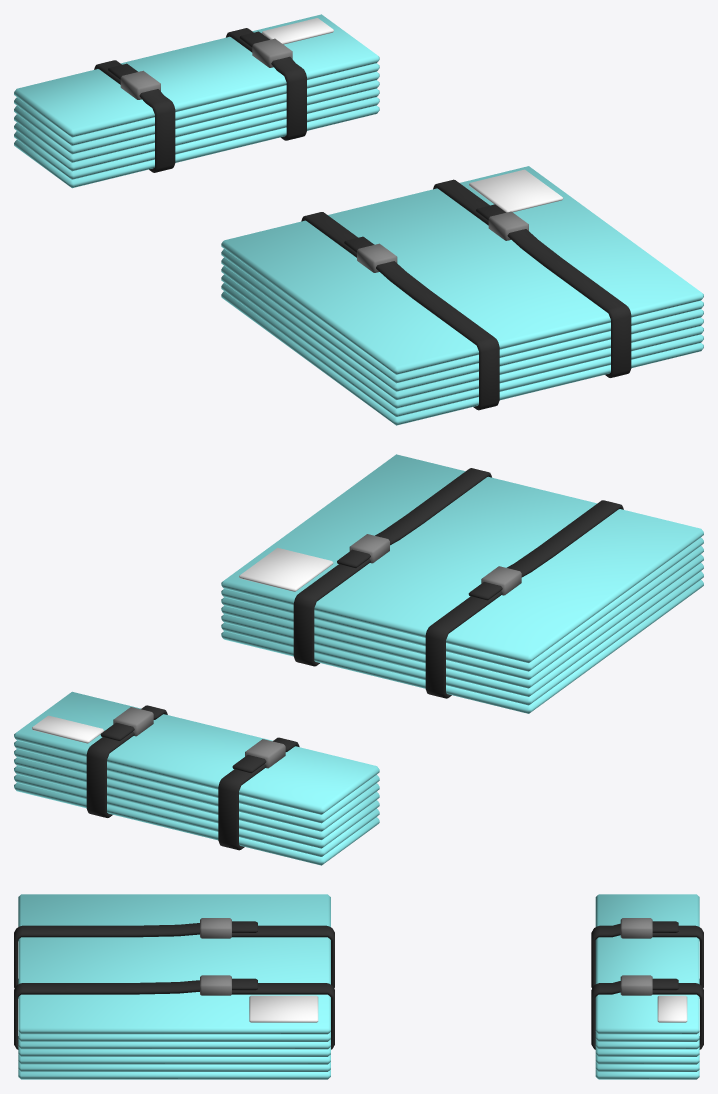
File: glass.fbx
3 views of the same model, one above another, from view 1: azimuth 30°, elevation 25°; view 2: azimuth 150°, elevation 25°; view 3: azimuth 270°, elevation 25° (orthographic). The views are drawn at different scales.
Parts seen in each view (by area): view 1: Cube.023, Cube.028, Cube.026, Cube.022, Cube.025, Cube.029, Cube.032, Cube.030, Cube.031, Cube.033, Cube.024, Cube.027; view 2: Cube.023, Cube.028, Cube.022, Cube.026, Cube.025, Cube.032, Cube.029, Cube.030, Cube.027, Cube.033, Cube.031, Cube.024; view 3: Cube.023, Cube.028, Cube.026, Cube.022, Cube.025, Cube.029, Cube.032, Cube.030, Cube.031, Cube.033, Cube.024, Cube.027.
Part boxes in pixels (x1,y1,x2,y2): Cube.023: [221, 166, 703, 425]; Cube.028: [14, 14, 379, 188]; Cube.026: [301, 212, 499, 410]; Cube.022: [433, 179, 631, 377]; Cube.025: [469, 169, 563, 212]; Cube.029: [226, 28, 306, 140]; Cube.032: [94, 60, 175, 172]; Cube.030: [261, 18, 333, 44]; Cube.031: [252, 38, 292, 67]; Cube.033: [120, 70, 160, 99]; Cube.024: [488, 211, 528, 240]; Cube.027: [357, 243, 397, 272]; Cube.023: [221, 454, 703, 713]; Cube.028: [14, 691, 379, 865]; Cube.022: [293, 468, 491, 666]; Cube.026: [425, 500, 623, 698]; Cube.025: [239, 547, 333, 591]; Cube.032: [218, 737, 299, 850]; Cube.029: [86, 705, 167, 817]; Cube.030: [32, 715, 103, 743]; Cube.027: [481, 566, 521, 595]; Cube.033: [245, 739, 285, 768]; Cube.031: [113, 707, 153, 736]; Cube.024: [349, 534, 389, 563]; Cube.023: [18, 894, 330, 1079]; Cube.028: [595, 894, 699, 1079]; Cube.026: [14, 921, 334, 988]; Cube.022: [14, 978, 334, 1049]; Cube.025: [249, 995, 318, 1022]; Cube.029: [591, 978, 703, 1049]; Cube.032: [591, 921, 703, 988]; Cube.030: [657, 995, 687, 1022]; Cube.031: [620, 975, 652, 995]; Cube.033: [620, 918, 652, 938]; Cube.024: [200, 975, 231, 995]; Cube.027: [200, 918, 231, 938].
Size of the model in its own units: 1785 by 420 by 3858.
